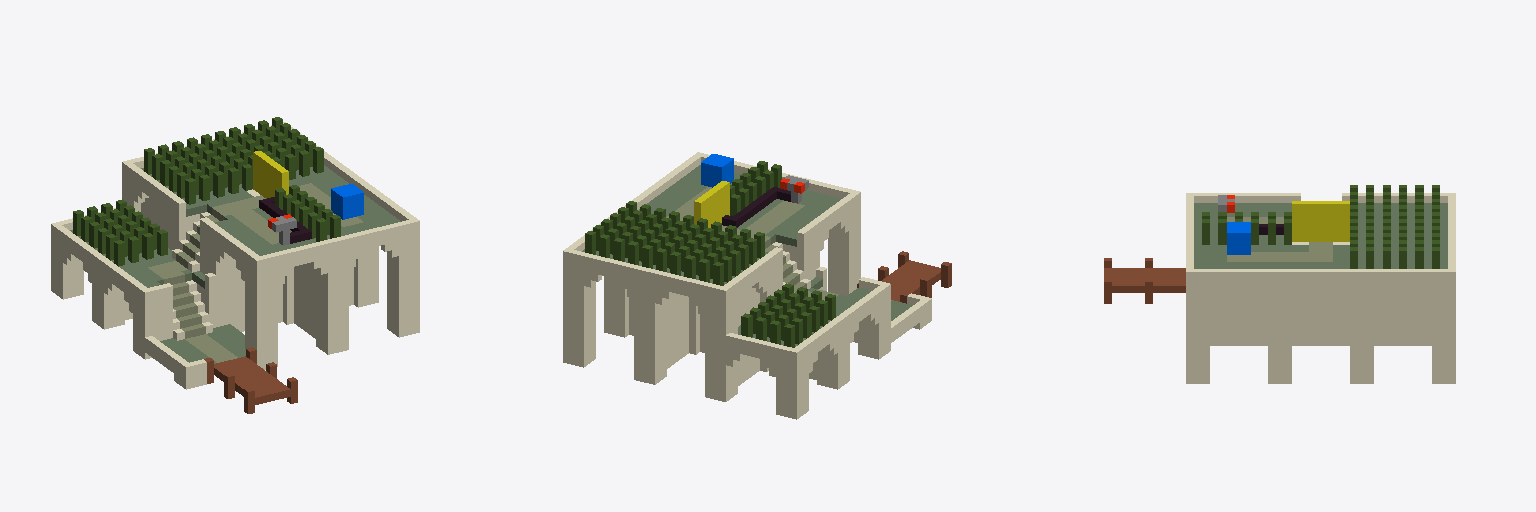
The picture shows the model from 3 angles: view 1: azimuth 30°, elevation 25°; view 2: azimuth 150°, elevation 25°; view 3: azimuth 270°, elevation 25°; orthographic projection.
Parts seen in each view (by area): view 1: object 1; view 2: object 1; view 3: object 1.
Boxes of the visible parts, x1,y1,x2,y2 form: object 1: [51, 117, 419, 413]; object 1: [563, 152, 951, 419]; object 1: [1104, 185, 1455, 383].
Bounding box in the file's own units: 3.3 × 1.9 × 4.3.
1 materials, 1 textured.